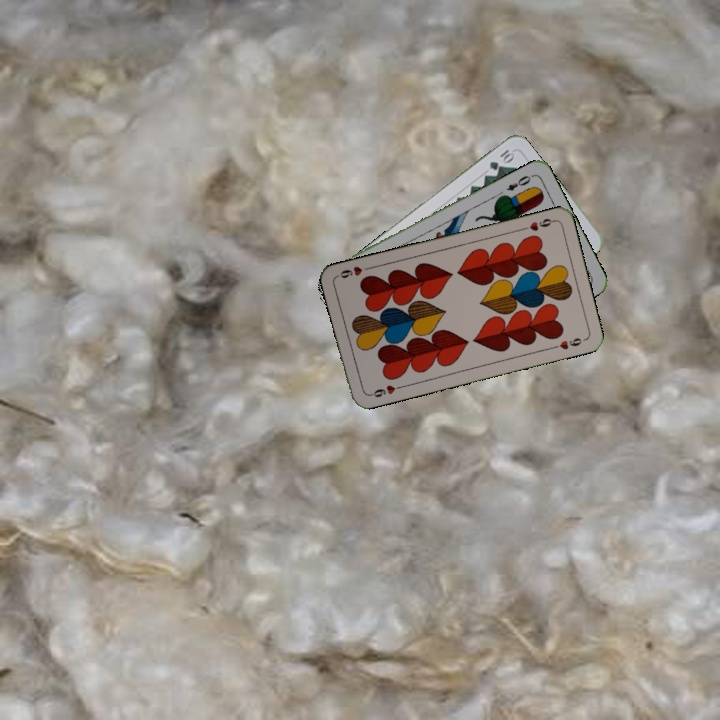EO: (502, 171, 536, 193)
G10: (485, 145, 517, 173)
H9: (517, 214, 557, 233), (365, 381, 405, 400)
